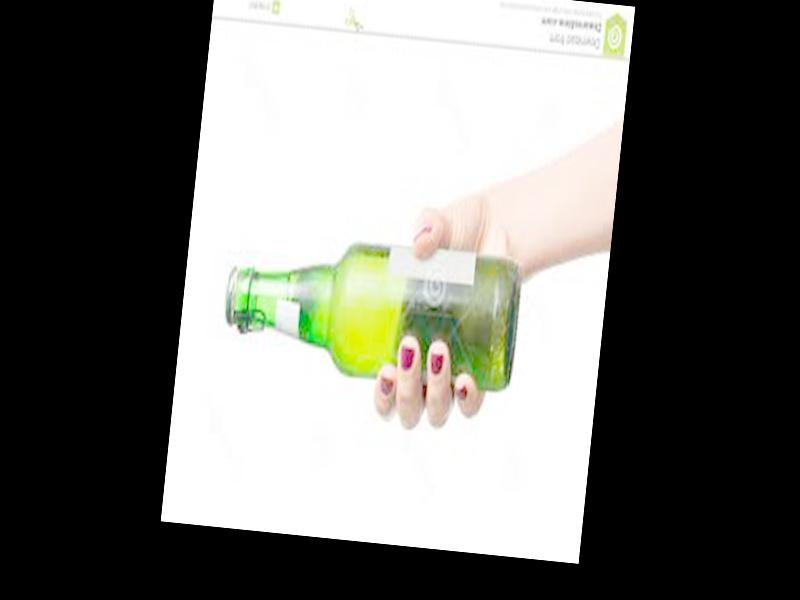Beer: (217, 224, 524, 393)
